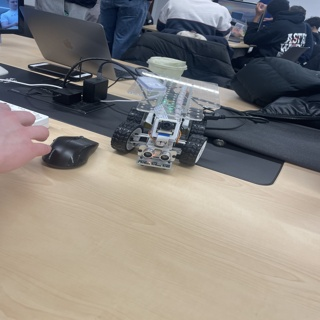vehicle: (111, 68, 220, 171)
